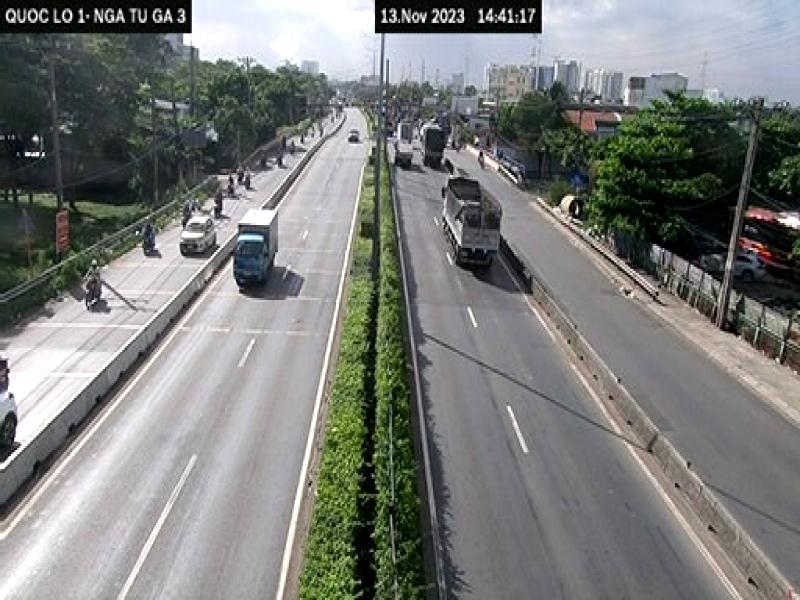truck: (435, 163, 513, 281), (229, 202, 281, 290)
